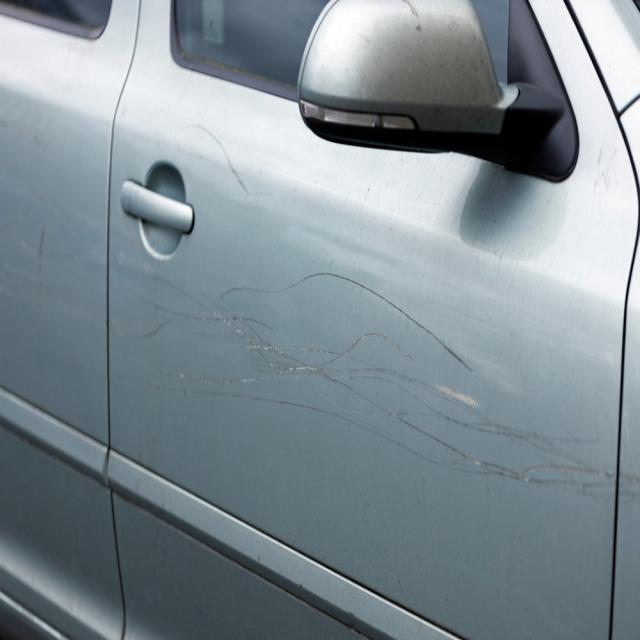scratch: (134, 268, 619, 501)
